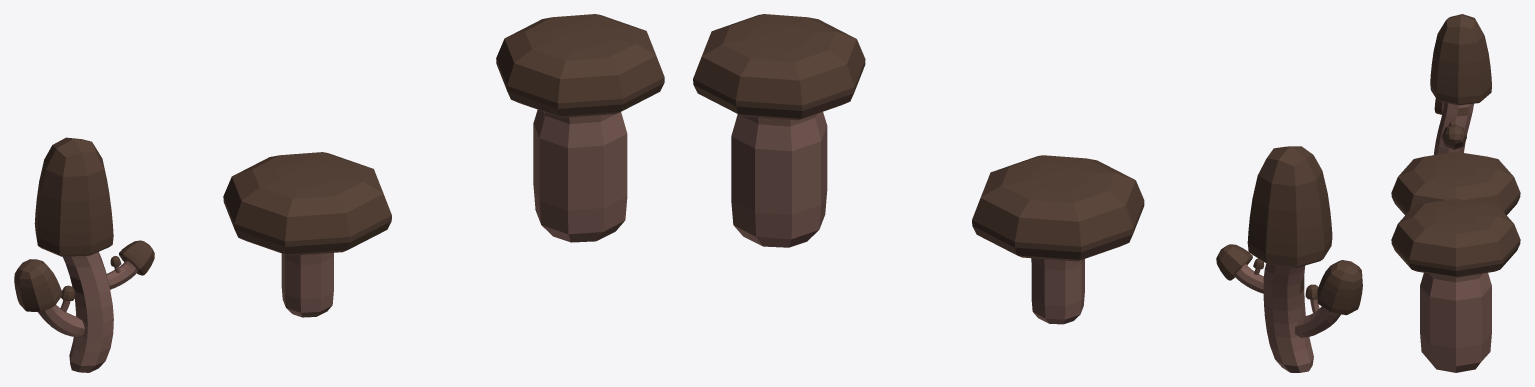
The model's file is Cogumelos.fbx.
3 views of the same model, side by side, from view 1: azimuth 30°, elevation 25°; view 2: azimuth 150°, elevation 25°; view 3: azimuth 270°, elevation 25° (orthographic). The views are drawn at different scales.
Visible parts, largest first — view 1: Cube.007, Cube, Cube.001; view 2: Cube.007, Cube, Cube.001; view 3: Cube.007, Cube.001, Cube.
Boxes of the visible parts, x1=… form: Cube.007: x1=496, y1=14, x2=664, y2=242; Cube: x1=223, y1=152, x2=391, y2=317; Cube.001: x1=14, y1=137, x2=154, y2=372; Cube.007: x1=693, y1=14, x2=865, y2=247; Cube: x1=972, y1=155, x2=1144, y2=324; Cube.001: x1=1216, y1=146, x2=1362, y2=372; Cube.007: x1=1391, y1=198, x2=1520, y2=372; Cube.001: x1=1430, y1=14, x2=1491, y2=154; Cube: x1=1391, y1=152, x2=1520, y2=215.
Bounding box in the file's own units: 2572 × 879 × 592.
